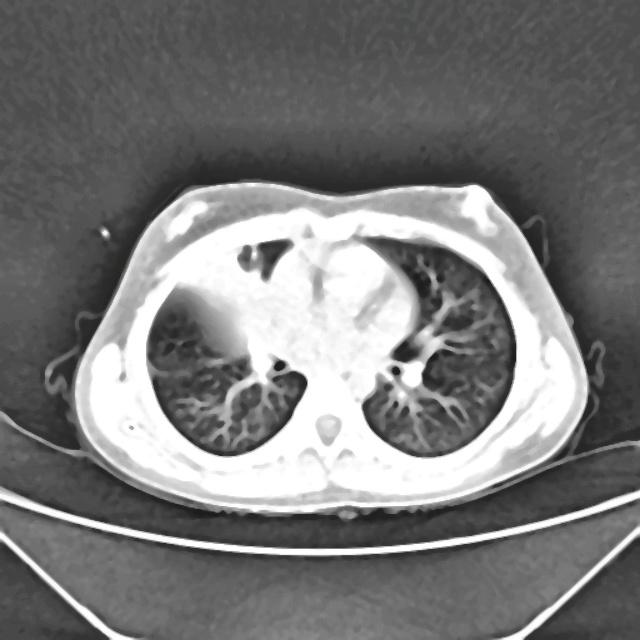covid: (69, 178, 590, 518)
